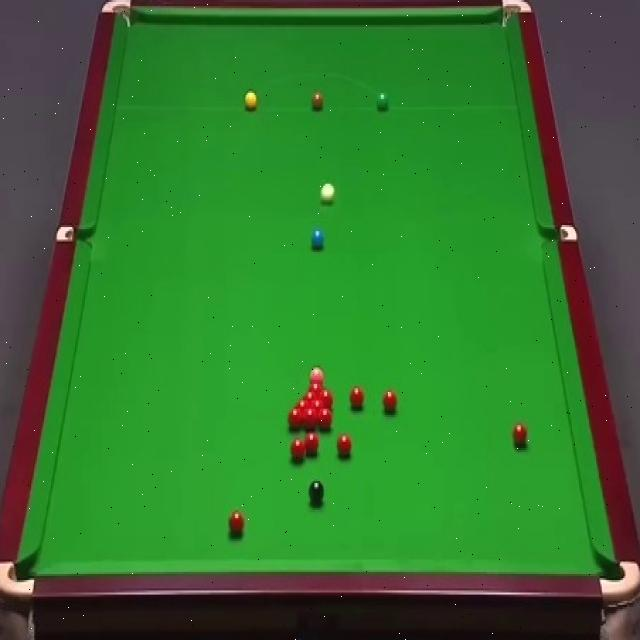black-ball: (308, 479, 325, 508)
blue-ball: (310, 228, 325, 251)
brown-ball: (311, 91, 325, 111)
green-ball: (375, 92, 391, 114)
pink-ball: (308, 366, 325, 379)
red-ball: (227, 510, 245, 538), (337, 432, 352, 461), (512, 421, 528, 447), (290, 438, 306, 463), (382, 390, 398, 413), (350, 386, 365, 409), (318, 408, 332, 432), (288, 408, 302, 431), (303, 408, 317, 430), (321, 389, 334, 412), (311, 380, 326, 398), (310, 396, 325, 412), (297, 398, 311, 413), (305, 391, 317, 401), (243, 532, 244, 533)
white-ball: (319, 182, 338, 209)
yellow-ball: (244, 90, 257, 111)
